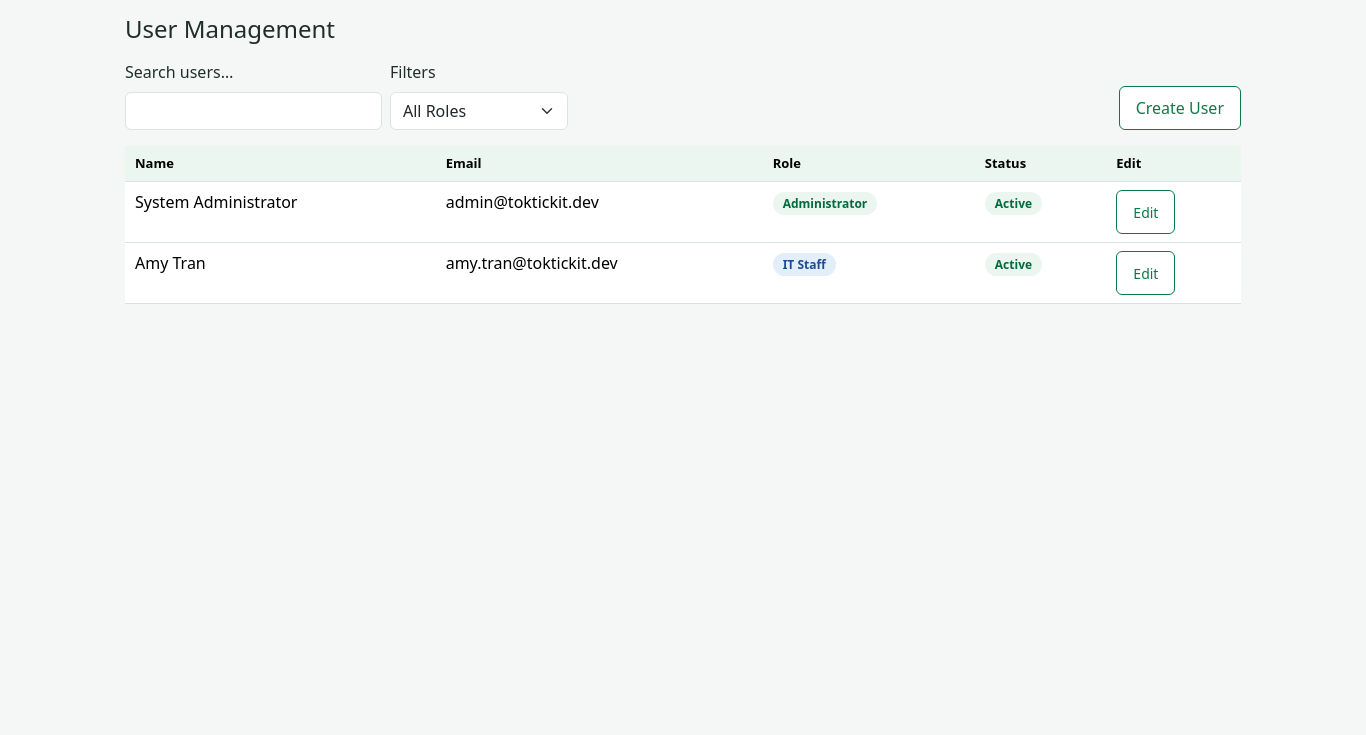
Test: UserManagement › lists users and disables self-deactivation with a tooltip
Expected: the text "Amy Tran" is shown, [125,243,436,304]
Click the button "Edit" in the row of "System Administrator": (1146, 212) [1116,190,1175,234]
(page scrolled)
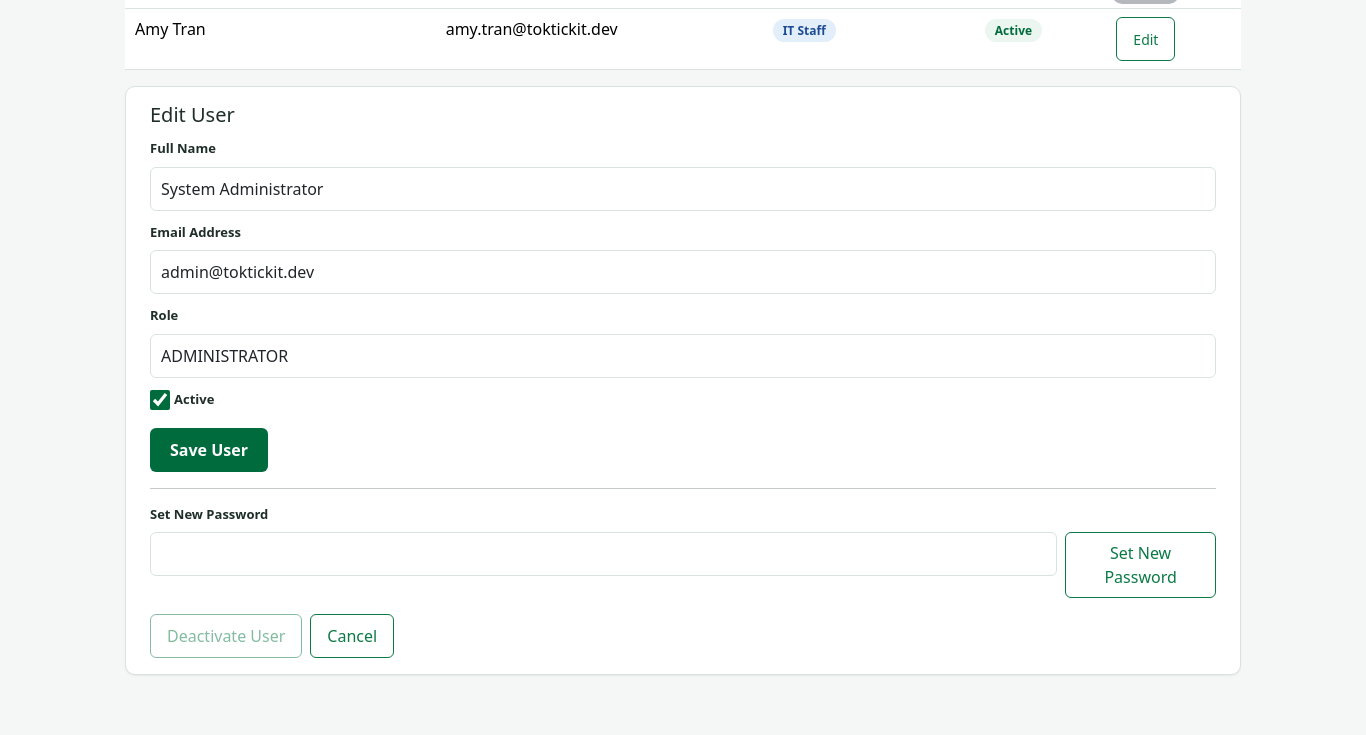
Result: the button "Deactivate User" is disabled at [150,614,302,658]
